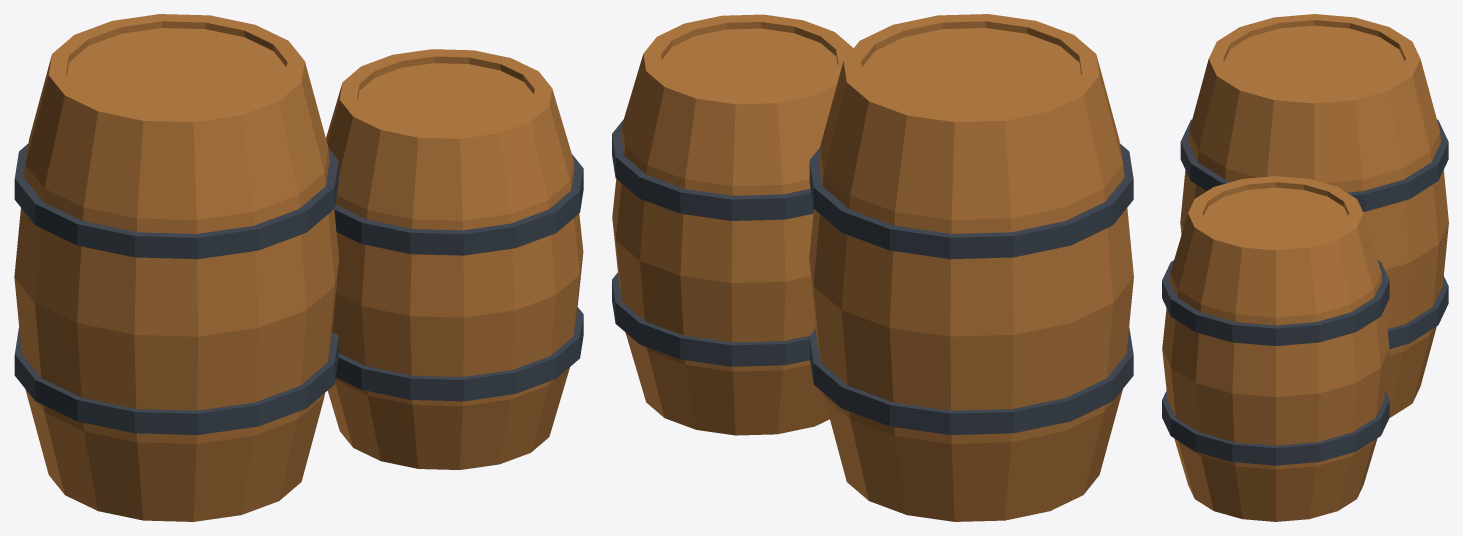
The model's file is barrel map 2.fbx.
The picture shows the model from 3 angles, left to right: view 1: azimuth 30°, elevation 25°; view 2: azimuth 150°, elevation 25°; view 3: azimuth 270°, elevation 25°; orthographic projection. The views are drawn at different scales.
Parts seen in each view (by area): view 1: Construction_Props.001; view 2: Construction_Props.001; view 3: Construction_Props.001.
Part boxes in pixels (<box>): Construction_Props.001: <box>14,14,583,521</box>; Construction_Props.001: <box>612,14,1133,521</box>; Construction_Props.001: <box>1162,14,1448,521</box>.
Bounding box in the file's own units: 186 × 140 × 111.
